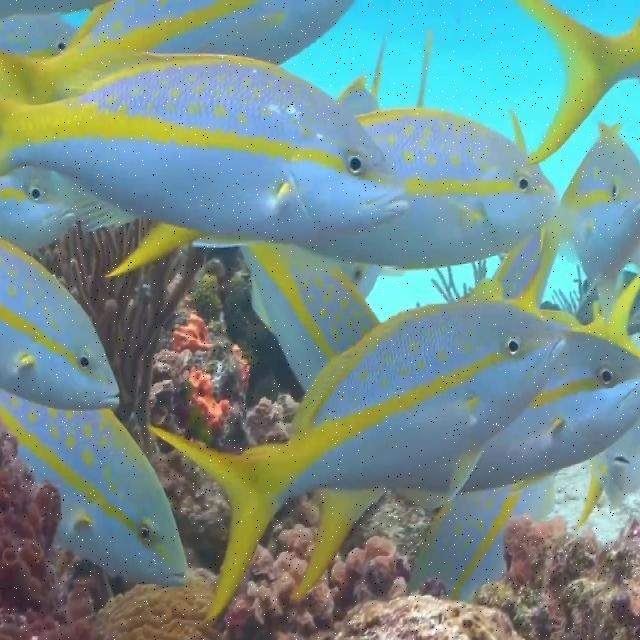fish: (148, 284, 571, 624), (0, 56, 410, 238), (284, 109, 559, 267), (0, 384, 189, 589), (0, 236, 119, 409)
